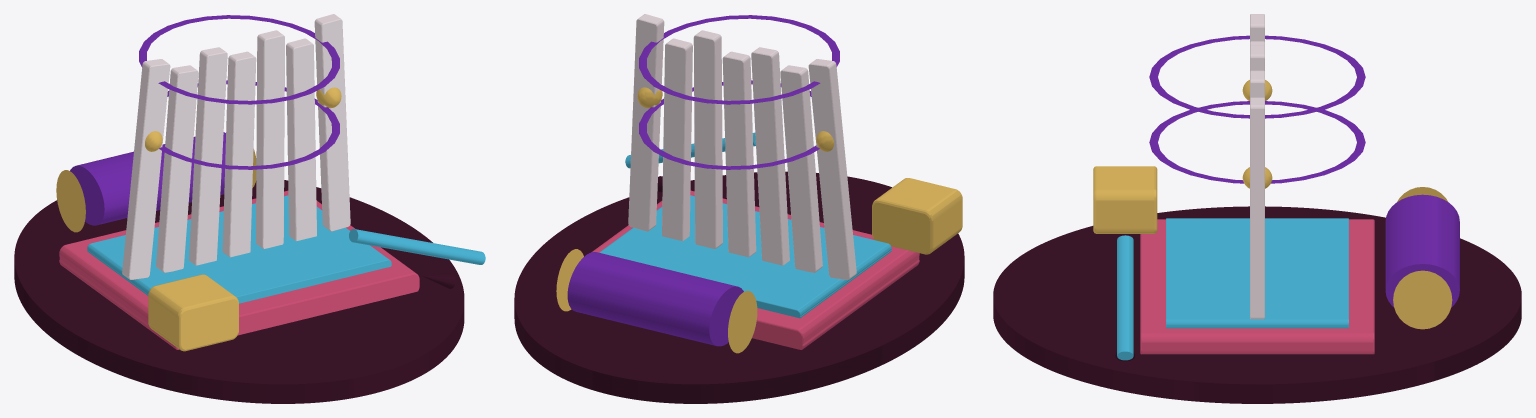
Rendered from 0606_考古图鉴_马王堆遣策.glb.
The picture shows the model from 3 angles, left to right: view 1: azimuth 30°, elevation 25°; view 2: azimuth 150°, elevation 25°; view 3: azimuth 270°, elevation 25°; orthographic projection.
Visible parts, largest first — view 1: card_0606; view 2: card_0606; view 3: card_0606.
Boxes of the visible parts, <box> form: card_0606: <box>14,14,485,403</box>; card_0606: <box>514,14,964,403</box>; card_0606: <box>993,14,1521,403</box>.
Bounding box in the file's own units: 1.48 × 1 × 1.86.
